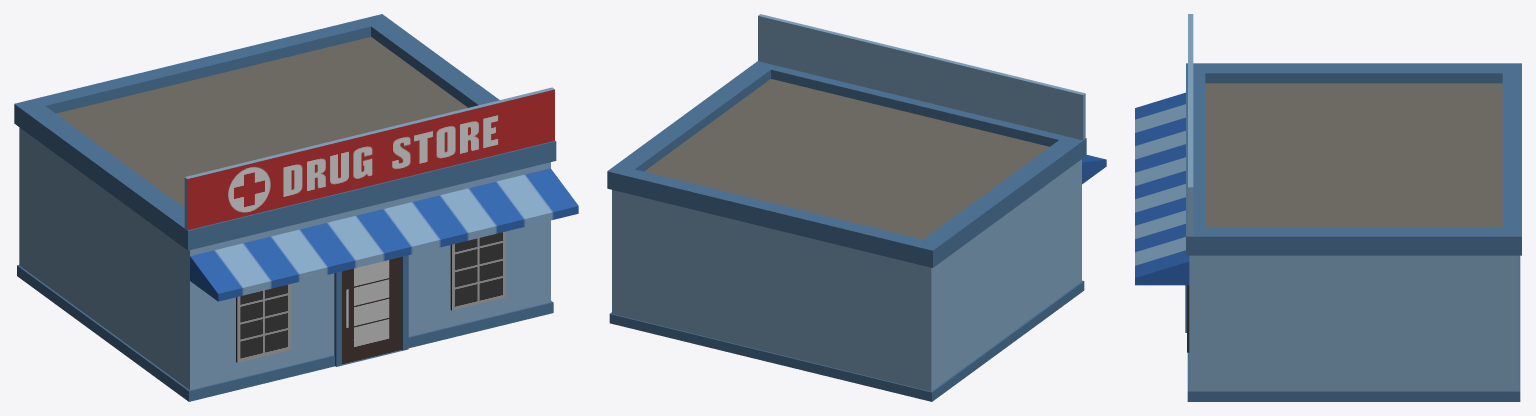
Rendered from building-drug-store.glb.
3 views of the same model, side by side, from view 1: azimuth 30°, elevation 25°; view 2: azimuth 150°, elevation 25°; view 3: azimuth 270°, elevation 25° (orthographic). The views are drawn at different scales.
Visible parts, largest first — view 1: Building_Drug Store; view 2: Building_Drug Store; view 3: Building_Drug Store.
Part boxes in pixels (box(x1,y1,x2,y2)): Building_Drug Store: box(14, 14, 578, 401); Building_Drug Store: box(607, 14, 1106, 401); Building_Drug Store: box(1135, 14, 1521, 401).
Bounding box in the file's own units: 11.22 × 6.5 × 10.57.
1 material, 1 textured.
